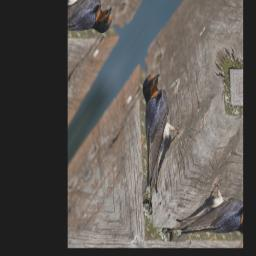Swallow: (102, 65, 201, 213)
